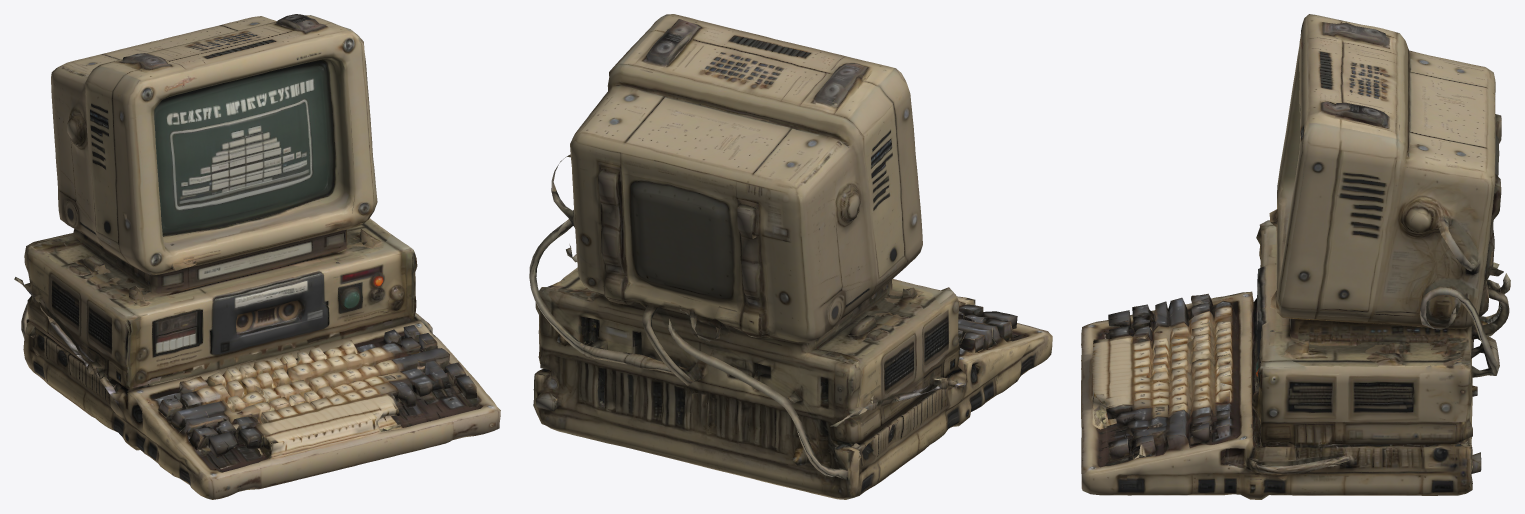
File: computer_old.glb
3 views of the same model, side by side, from view 1: azimuth 30°, elevation 25°; view 2: azimuth 150°, elevation 25°; view 3: azimuth 270°, elevation 25° (orthographic). The views are drawn at different scales.
Bounding box in the file's own units: 1.82 × 1.88 × 1.99.
Materials: 1 (1 with a texture image).
